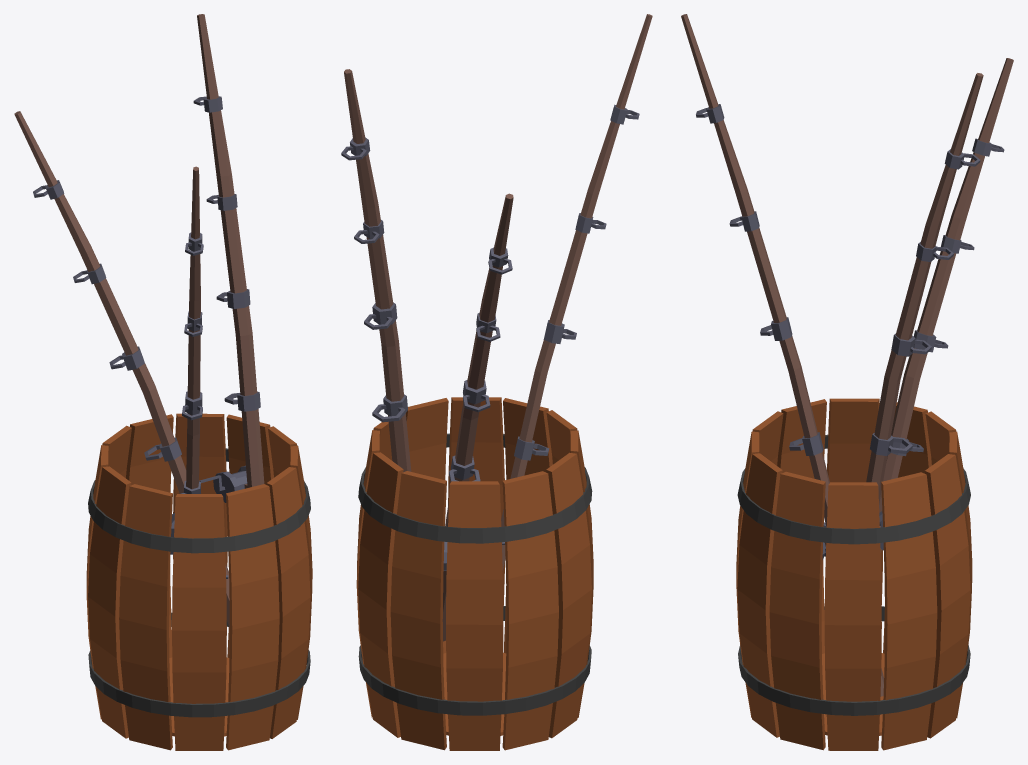
The model's file is Barrel1.fbx.
The picture shows the model from 3 angles, left to right: view 1: azimuth 30°, elevation 25°; view 2: azimuth 150°, elevation 25°; view 3: azimuth 270°, elevation 25°; orthographic projection. The views are drawn at different scales.
Parts seen in each view (by area): view 1: FishingRod_Lvl2; view 2: FishingRod_Lvl2; view 3: FishingRod_Lvl2.
Part boxes in pixels (x1,y1,x2,y2): FishingRod_Lvl2: (14, 14, 312, 750); FishingRod_Lvl2: (341, 14, 652, 750); FishingRod_Lvl2: (681, 14, 1013, 750).
Size of the model in its own units: 62.99 by 184 by 83.31.
